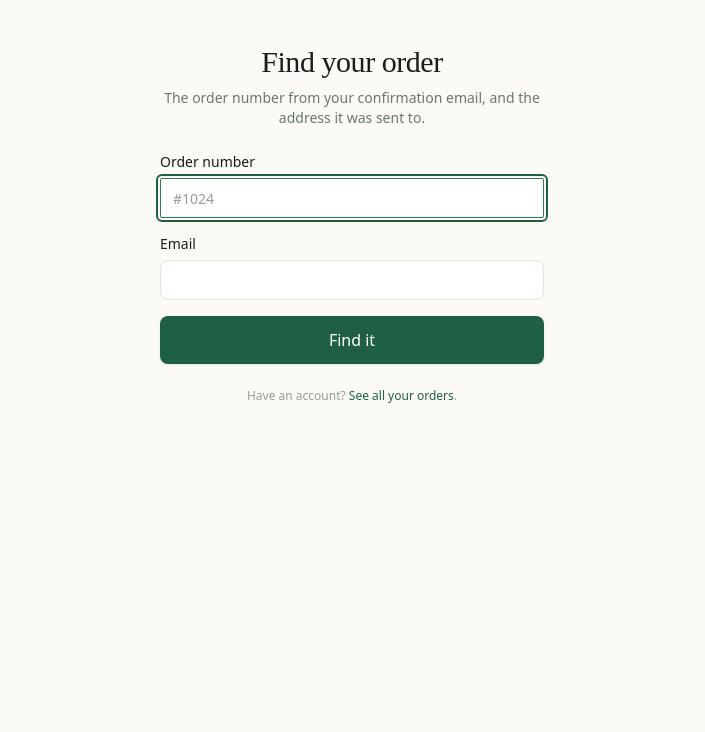
Test: returning › asks the server what can go back, with the guest credential
Type "#1001" into the field labelled "Order number". click: [352, 198]
box: x1=160 y1=178 x2=544 y2=218
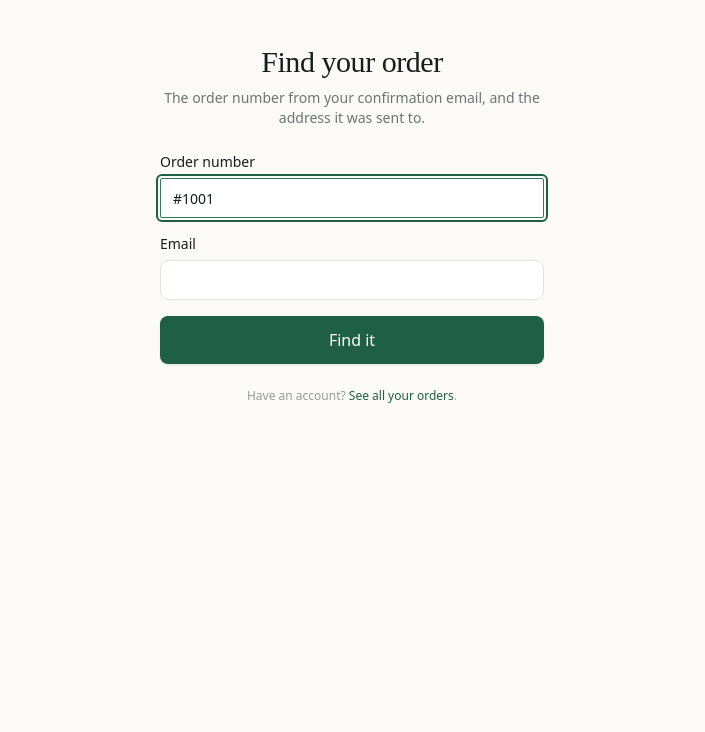
Type "shopper@example.test" into the field labelled "Email". click: [352, 280]
box: x1=160 y1=260 x2=544 y2=300
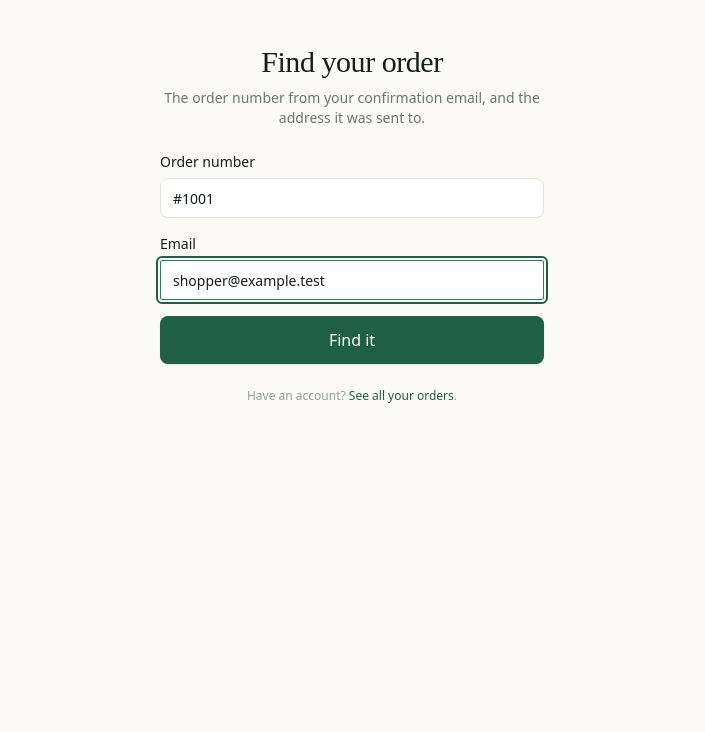
Click the button "Find it". click: [352, 340]
box: x1=160 y1=316 x2=544 y2=364
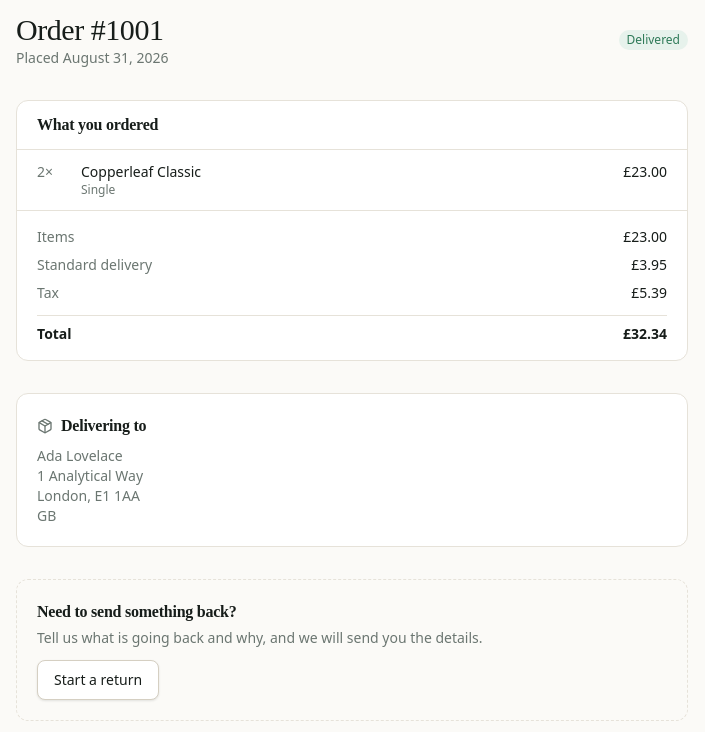
Now the button "Start a return" is shown, box x1=37 y1=660 x2=159 y2=700
